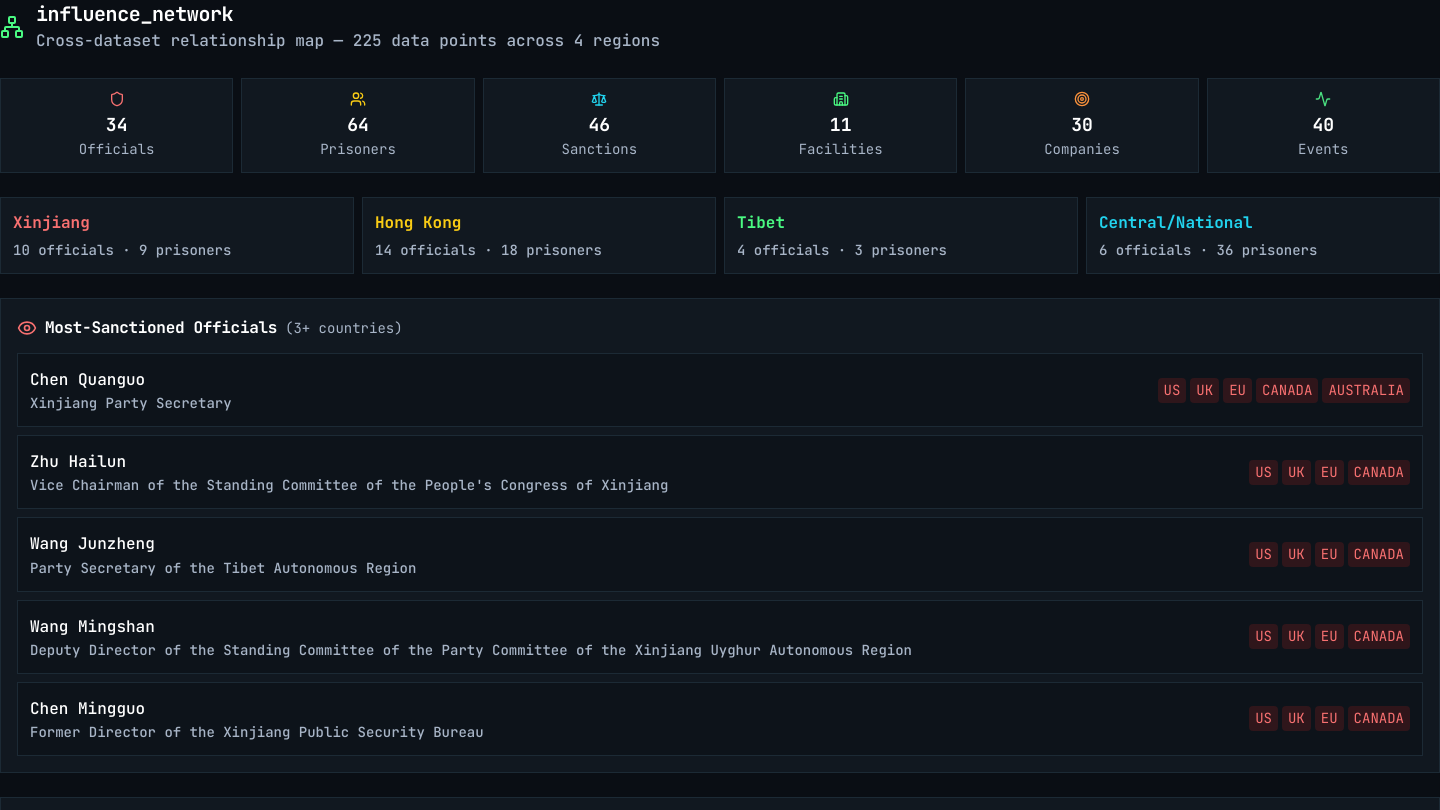
Test: InfluenceNetwork › selecting Hong Kong shows regional description
This screenshot has width=1440, height=810.
Click the text "Hong Kong". click: (418, 222)
box: x1=375 y1=212 x2=461 y2=233
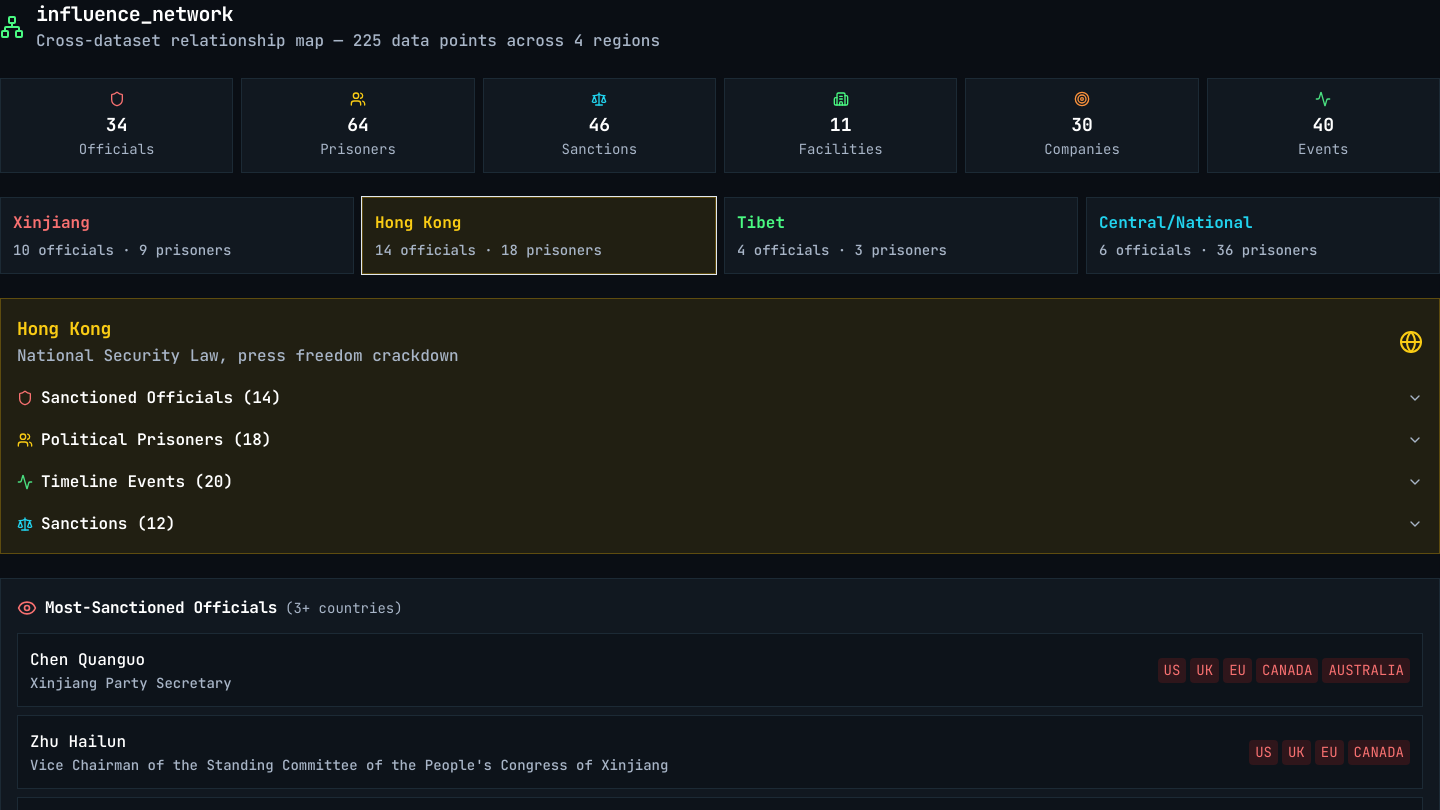
Now the text "National Security Law, press freedom crackdown" is shown, box x1=17 y1=343 x2=459 y2=369
